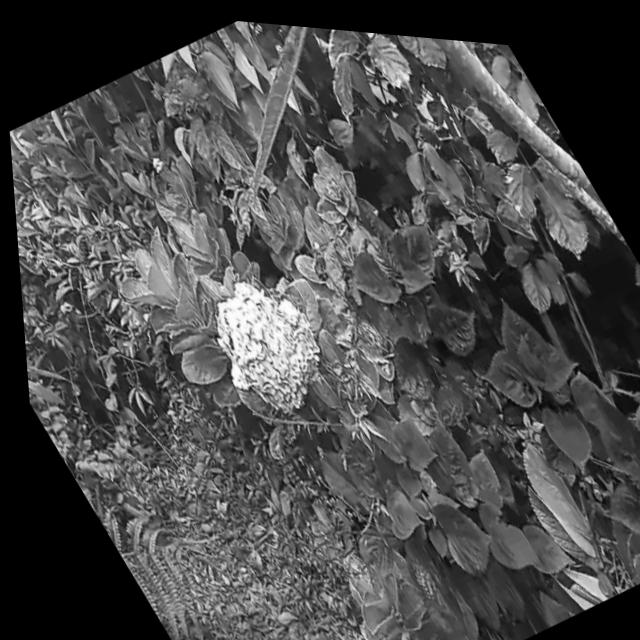Flower: (185, 250, 346, 428)
